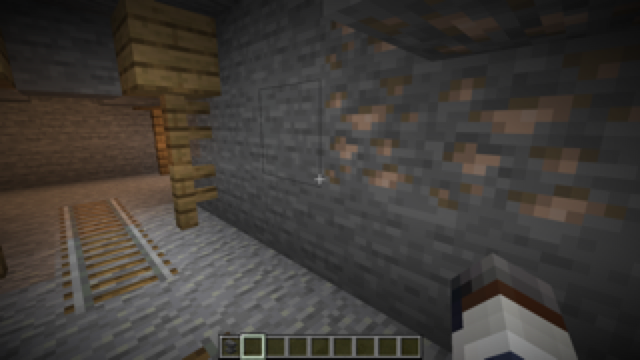iron: (320, 1, 639, 232)
